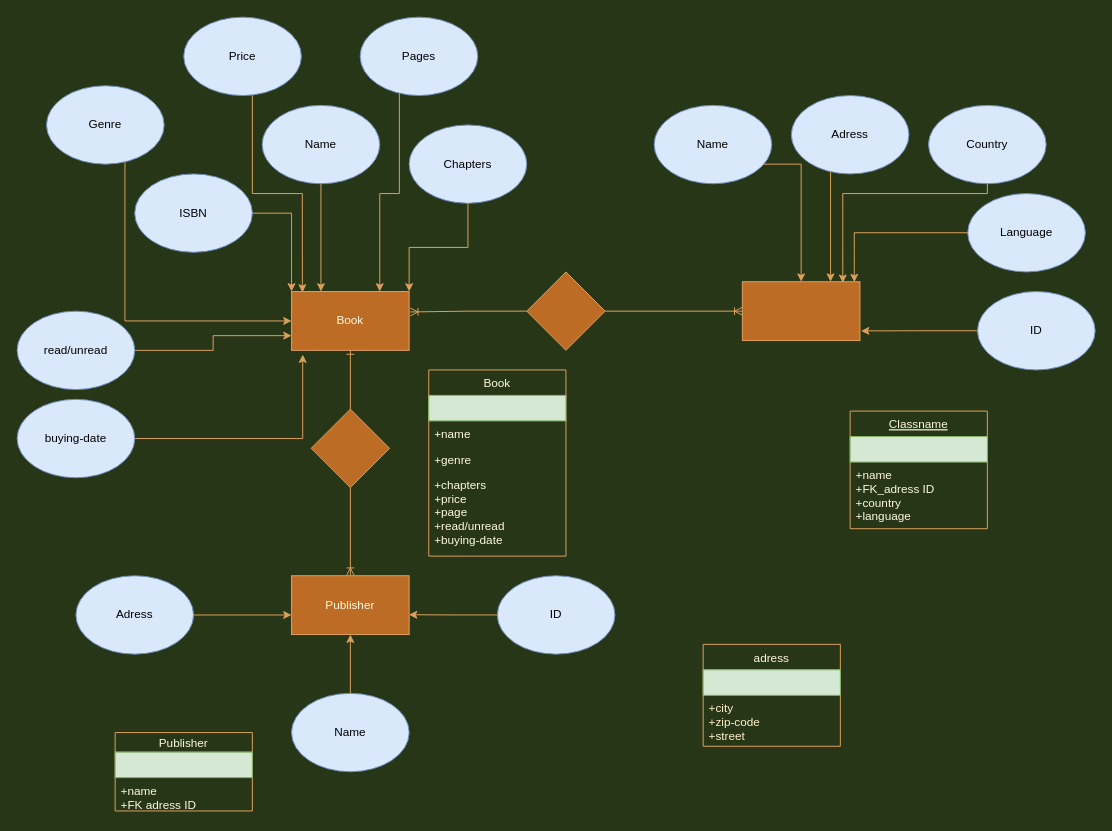
The diagram is 1112 pixels wide and 831 high, and some of its shapes have lost their labels. Each missing label, with the centre of its shape:
"+PK adress ID" goes at point (771, 682).
"Author" goes at point (800, 311).
"PK ID" goes at point (918, 449).
"PK ISBN" goes at point (497, 407).
"PK publisher ID" goes at point (183, 764).
"publishes" goes at point (350, 448).
"Write" goes at point (565, 310).
